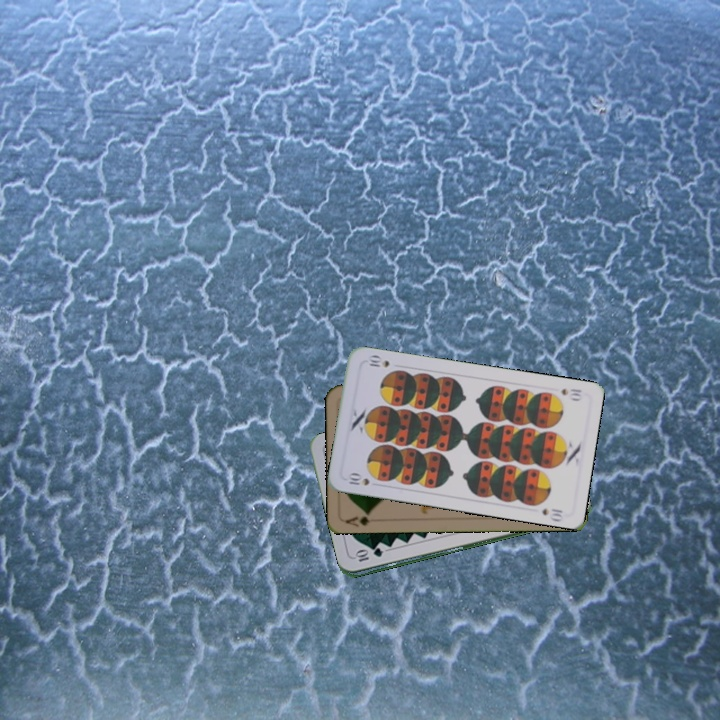G10: (352, 546, 386, 564)
GA: (342, 509, 373, 528)
S10: (343, 469, 372, 488), (557, 384, 584, 403)
